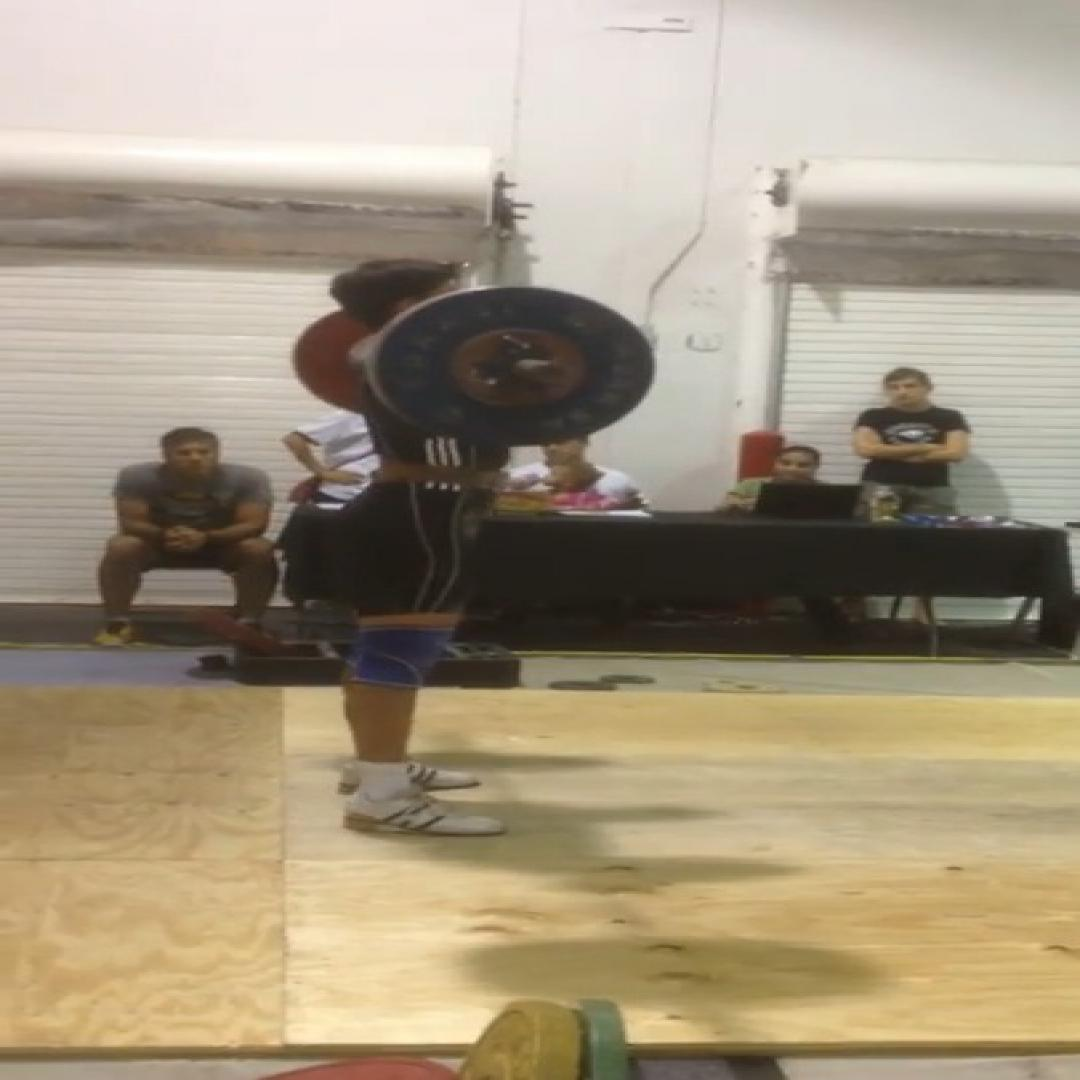Bar: (532, 363, 567, 383)
Barbell: (375, 288, 654, 444)
